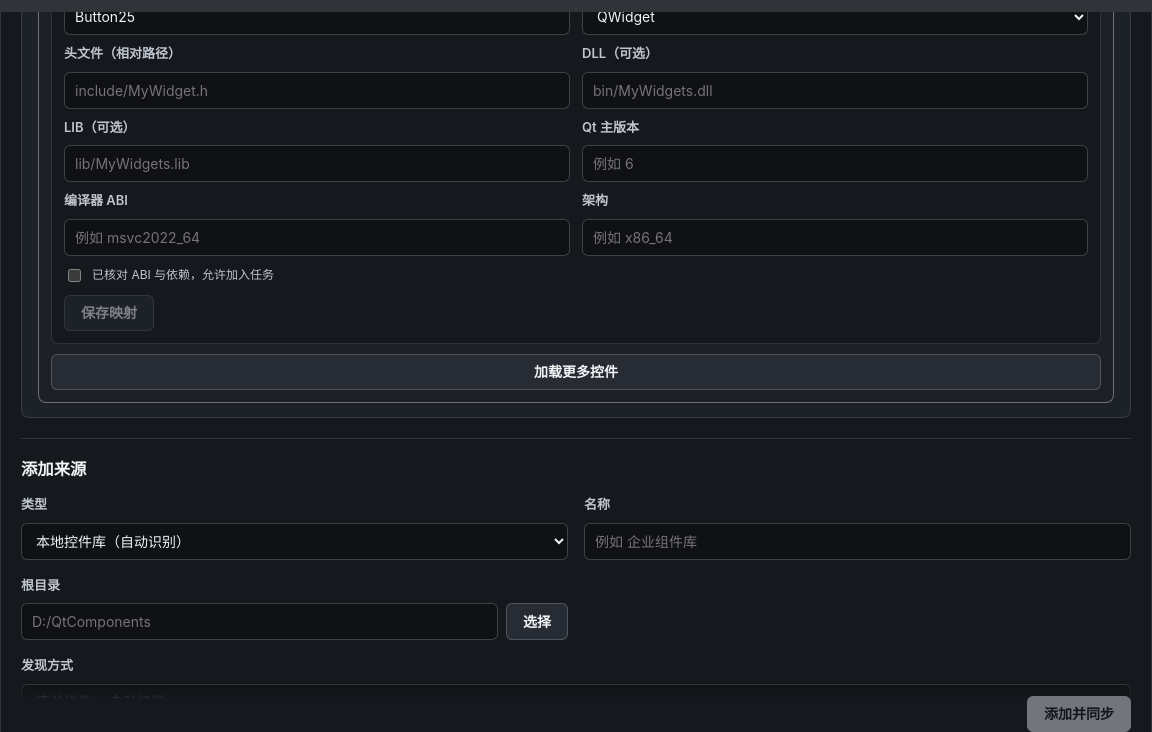
Test case: ComponentSourcesPanel › keeps a complete binary control index while loading mapping rows by page
(page scrolled)
Click the button "加载更多控件" at {"x": 576, "y": 372}, box [51,354,1101,390]
(page scrolled)
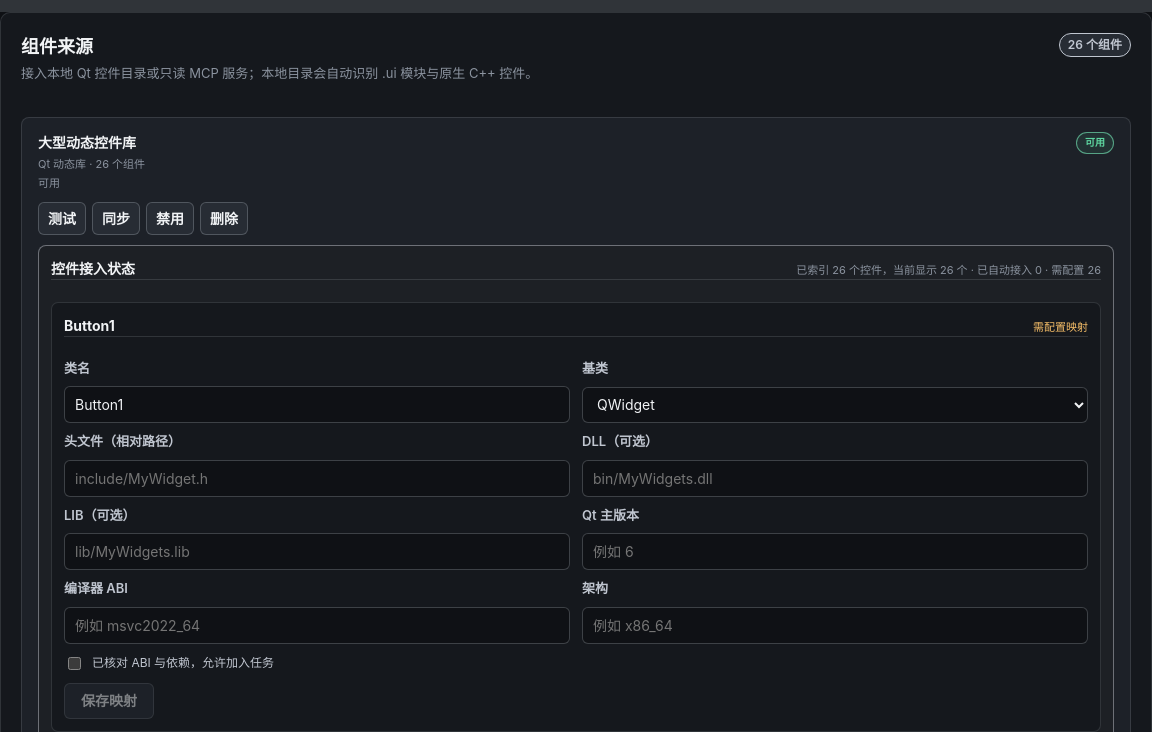
expect the text "已索引 26 个控件，当前显示 26 个 · 已自动接入 0 · 需配置 26" is shown: met, box [796,262,1101,278]
